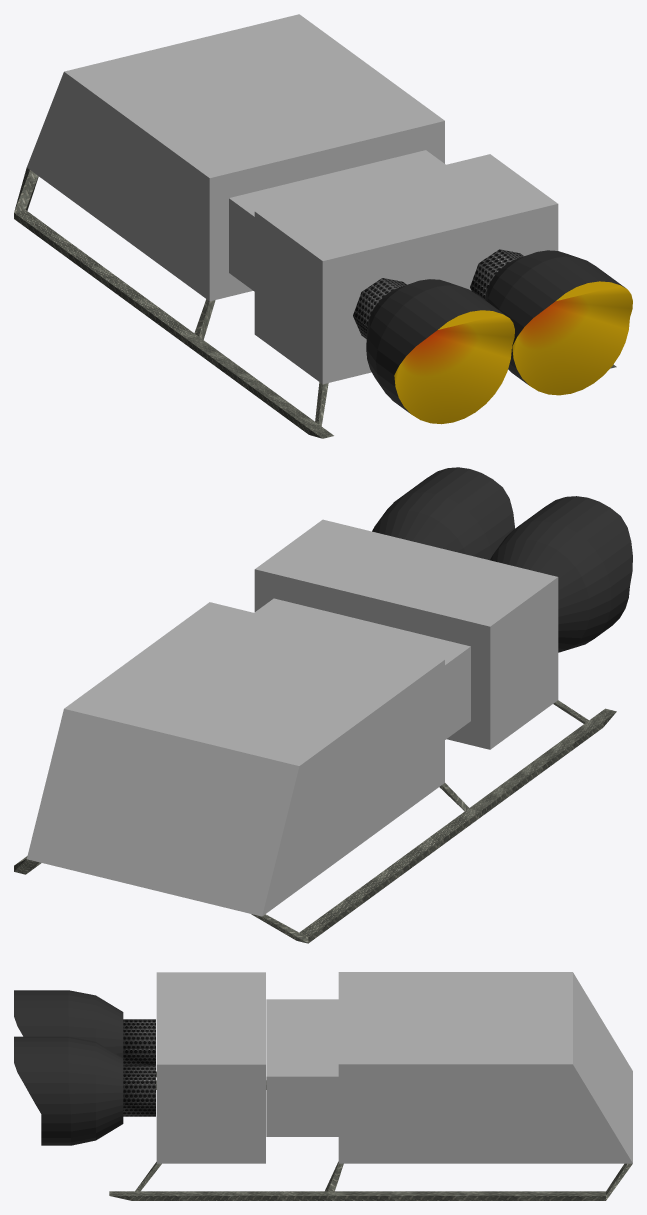
File: spaceship.obj
The picture shows the model from 3 angles, top to bottom: view 1: azimuth 30°, elevation 25°; view 2: azimuth 150°, elevation 25°; view 3: azimuth 270°, elevation 25°; orthographic projection. The views are drawn at different scales.
Parts seen in each view (by area): view 1: Cube; view 2: Cube; view 3: Cube.
Part boxes in pixels (bbox=[...]): Cube: bbox=[14, 14, 632, 438]; Cube: bbox=[14, 467, 632, 943]; Cube: bbox=[14, 972, 632, 1200].
Bounding box in the file's own units: 5 × 2.52 × 11.32.
